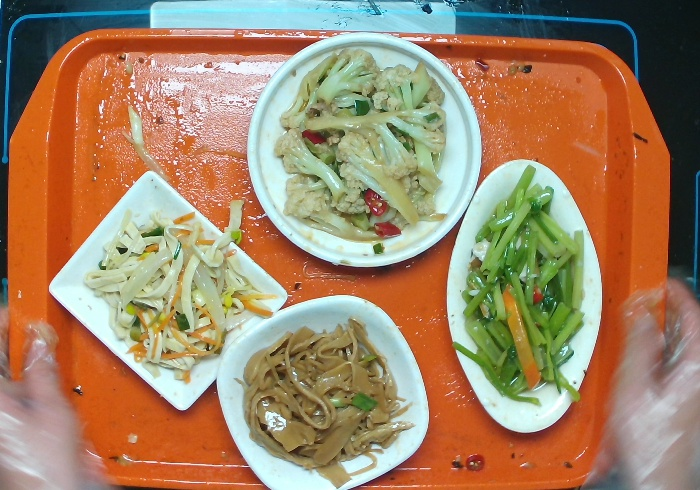HZYJPL-Si_Fang_Die: (49, 168, 288, 412)
HZYJPL-Si_Fang_Yuan_Die: (218, 291, 433, 490)
HZYJPL-Xiao_Yu_Die: (446, 155, 604, 433)
HZYJPL-Xiao_Yuan_Die: (241, 29, 483, 268)
